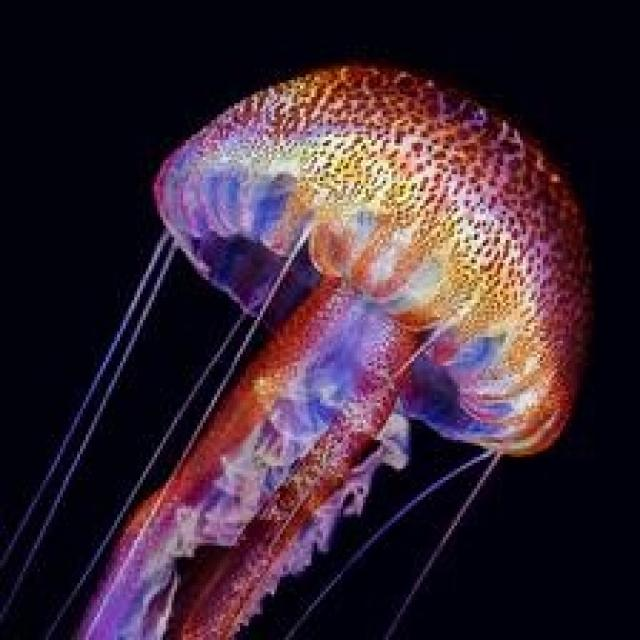Jellyfish: (0, 60, 594, 637)
